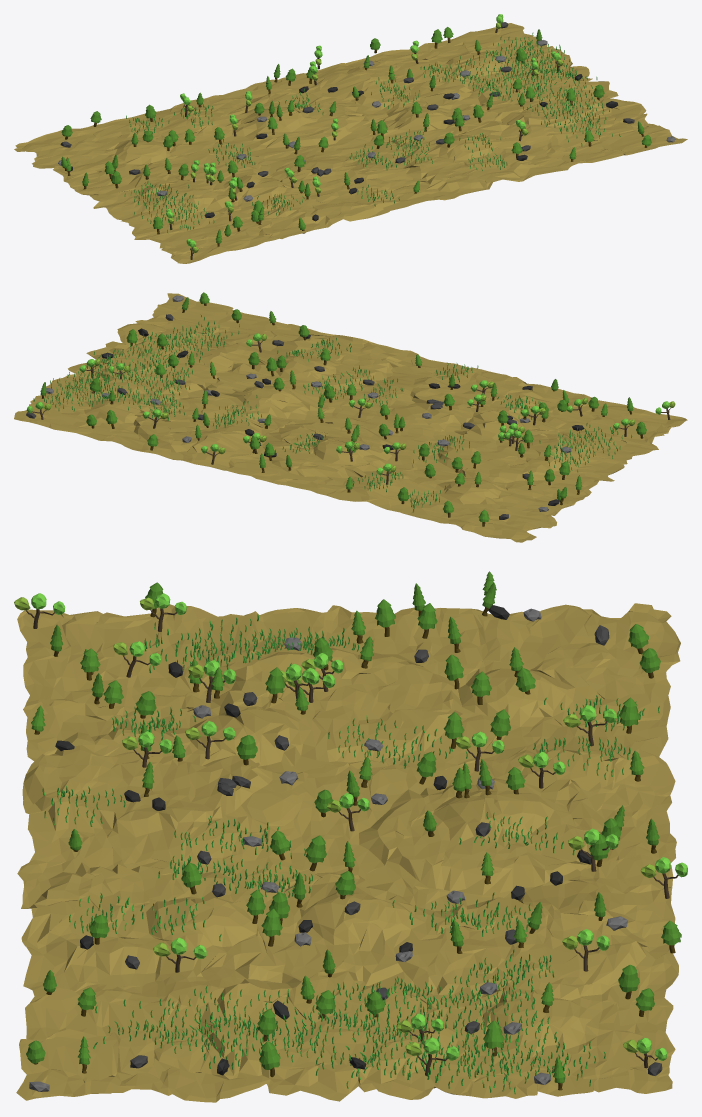
File: land.dae
The picture shows the model from 3 angles, top to bottom: view 1: azimuth 30°, elevation 25°; view 2: azimuth 150°, elevation 25°; view 3: azimuth 270°, elevation 25°; orthographic projection. The views are drawn at different scales.
Visible parts, largest first — view 1: Plane; view 2: Plane; view 3: Plane.
Boxes of the visible parts, x1,y1,x2,y2 form: Plane: [14, 23, 687, 263]; Plane: [14, 293, 687, 542]; Plane: [16, 603, 680, 1102].
Size of the model in its own units: 82.71 by 47.12 by 4.98.
